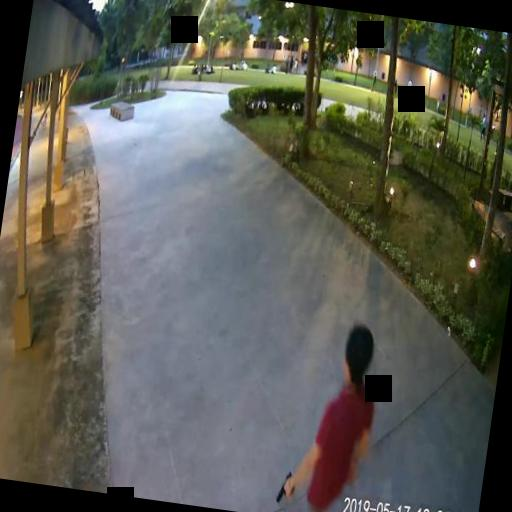Handgun: (276, 470, 296, 502)
